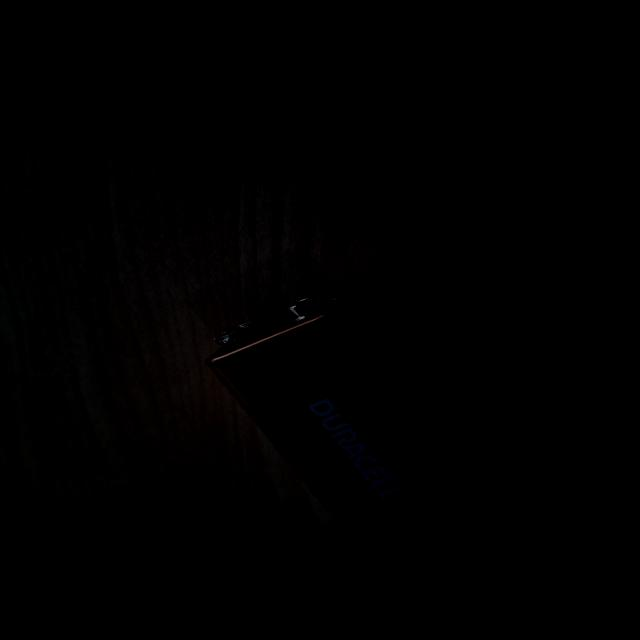9V: (162, 314, 460, 512)
